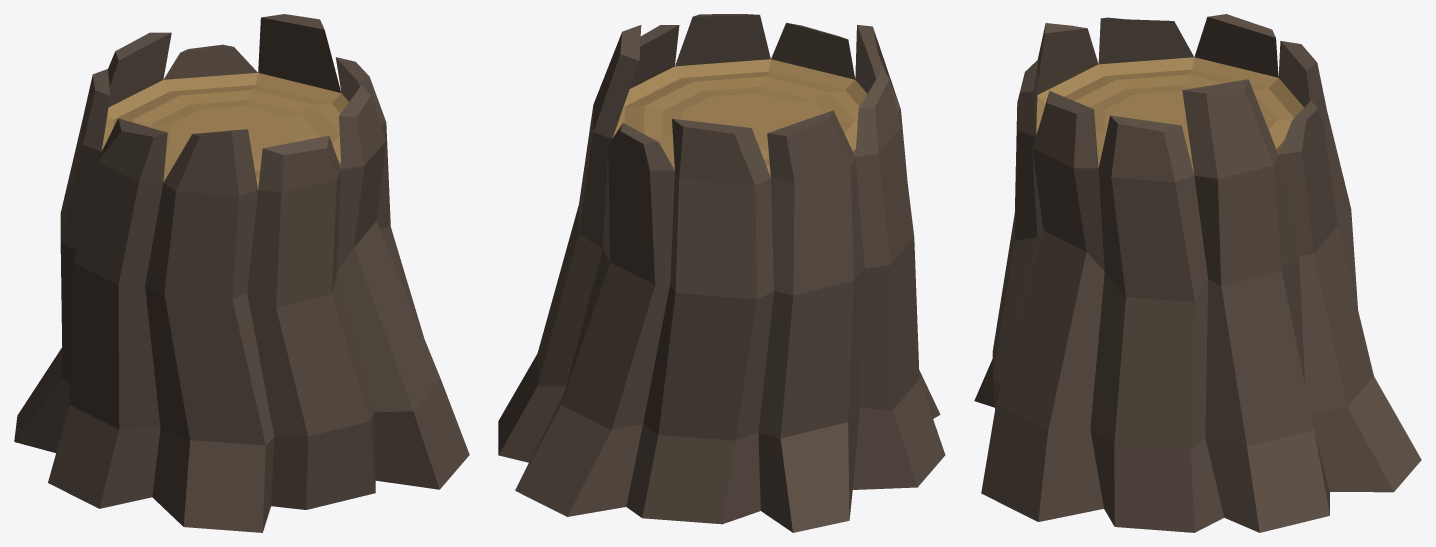
Rendered from Tree_Stump_Hard.fbx.
The picture shows the model from 3 angles, left to right: view 1: azimuth 30°, elevation 25°; view 2: azimuth 150°, elevation 25°; view 3: azimuth 270°, elevation 25°; orthographic projection.
Visible parts, largest first — view 1: Cylinder; view 2: Cylinder; view 3: Cylinder.
Boxes of the visible parts, box(x1,y1,x2,y2) form: Cylinder: box(14, 14, 469, 532); Cylinder: box(498, 14, 945, 532); Cylinder: box(974, 14, 1421, 532).
Size of what is drawn, in the model's own units: 116 by 115 by 118.
